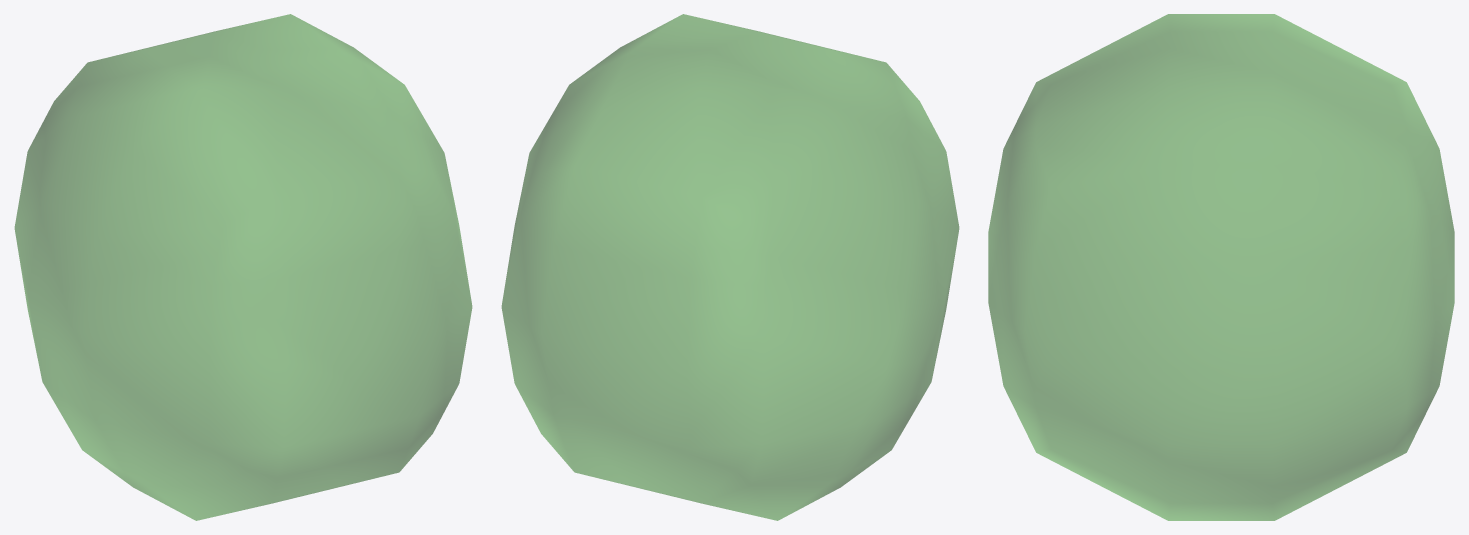
Rendered from orb green.fbx.
3 renders of one model, left to right at view 1: azimuth 30°, elevation 25°; view 2: azimuth 150°, elevation 25°; view 3: azimuth 270°, elevation 25°, orthographic.
Visible parts, largest first — view 1: pCube55; view 2: pCube55; view 3: pCube55.
Part boxes in pixels (left/top/right/bottom): pCube55: left=14, top=14, right=472, bottom=520; pCube55: left=501, top=14, right=959, bottom=520; pCube55: left=988, top=14, right=1454, bottom=520.
Bounding box in the file's own units: 3.59 × 3.94 × 3.83.
